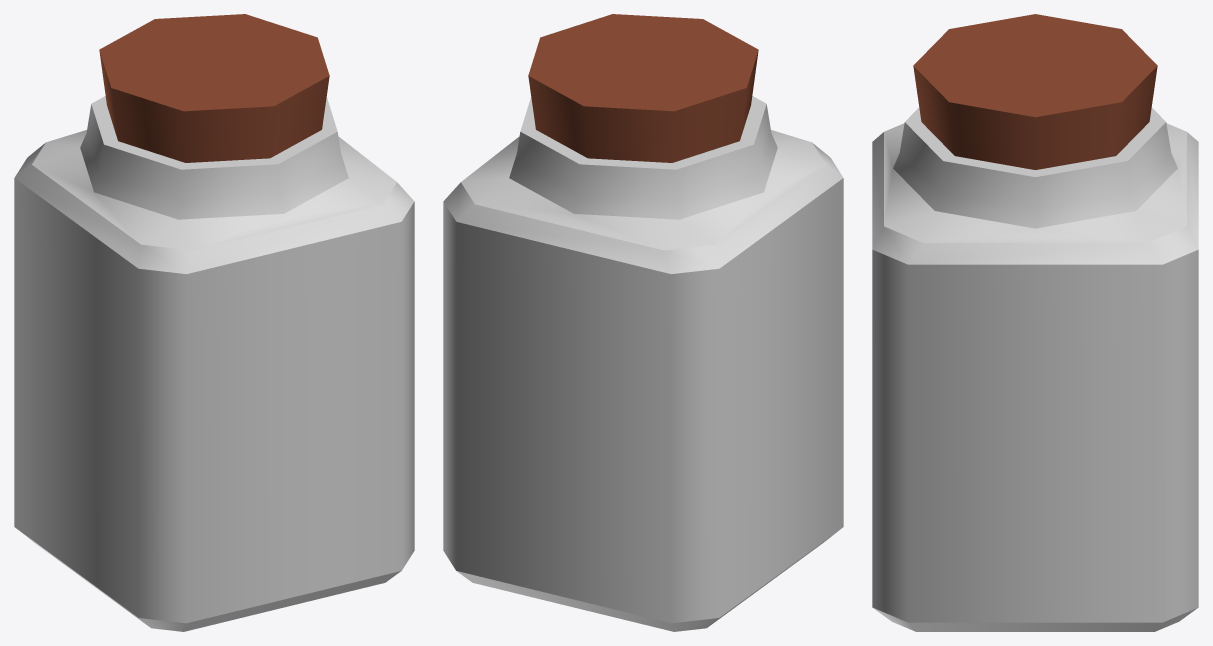
Rendered from SpiceContainer_01.fbx.
The picture shows the model from 3 angles, left to right: view 1: azimuth 30°, elevation 25°; view 2: azimuth 150°, elevation 25°; view 3: azimuth 270°, elevation 25°; orthographic projection. The views are drawn at different scales.
Parts seen in each view (by area): view 1: SpiceContainer_01, SpiceContainer_01_Plug; view 2: SpiceContainer_01, SpiceContainer_01_Plug; view 3: SpiceContainer_01, SpiceContainer_01_Plug.
Boxes of the visible parts, x1,y1,x2,y2 form: SpiceContainer_01: [14, 96, 414, 631]; SpiceContainer_01_Plug: [99, 14, 329, 162]; SpiceContainer_01: [443, 96, 843, 631]; SpiceContainer_01_Plug: [528, 14, 758, 162]; SpiceContainer_01: [872, 107, 1198, 631]; SpiceContainer_01_Plug: [913, 14, 1157, 169].
Size of the model in its own units: 0.0653 by 0.1114 by 0.0653.
